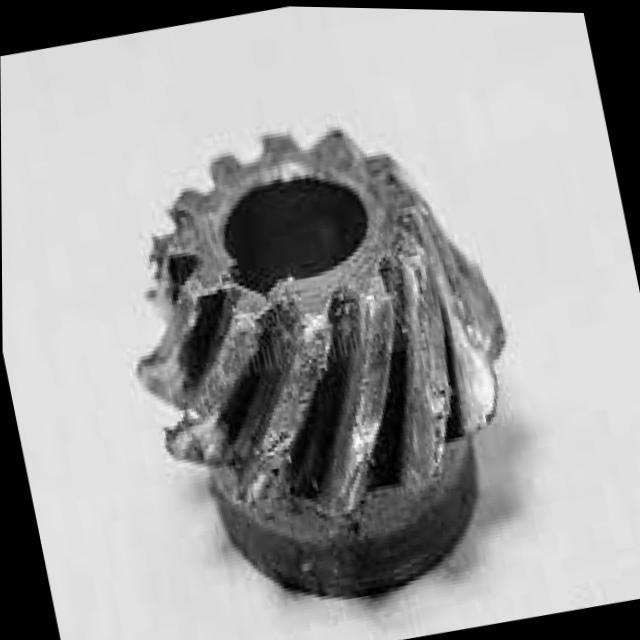Fault-Exist: (71, 118, 549, 640)
